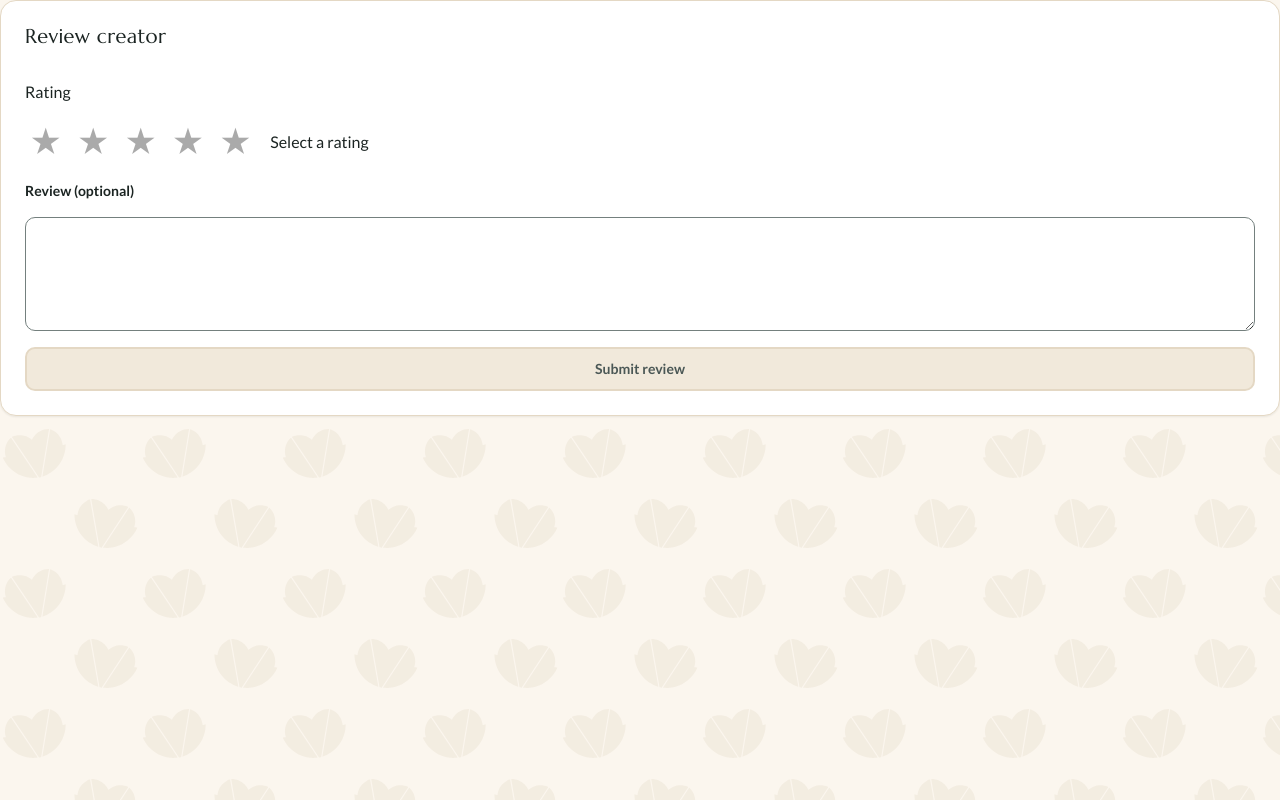
Test case: hides the form when the campaign was already reviewed
Step 1. Click the button named "Rate 5 stars" → (236, 142), box [215,120,256,164]
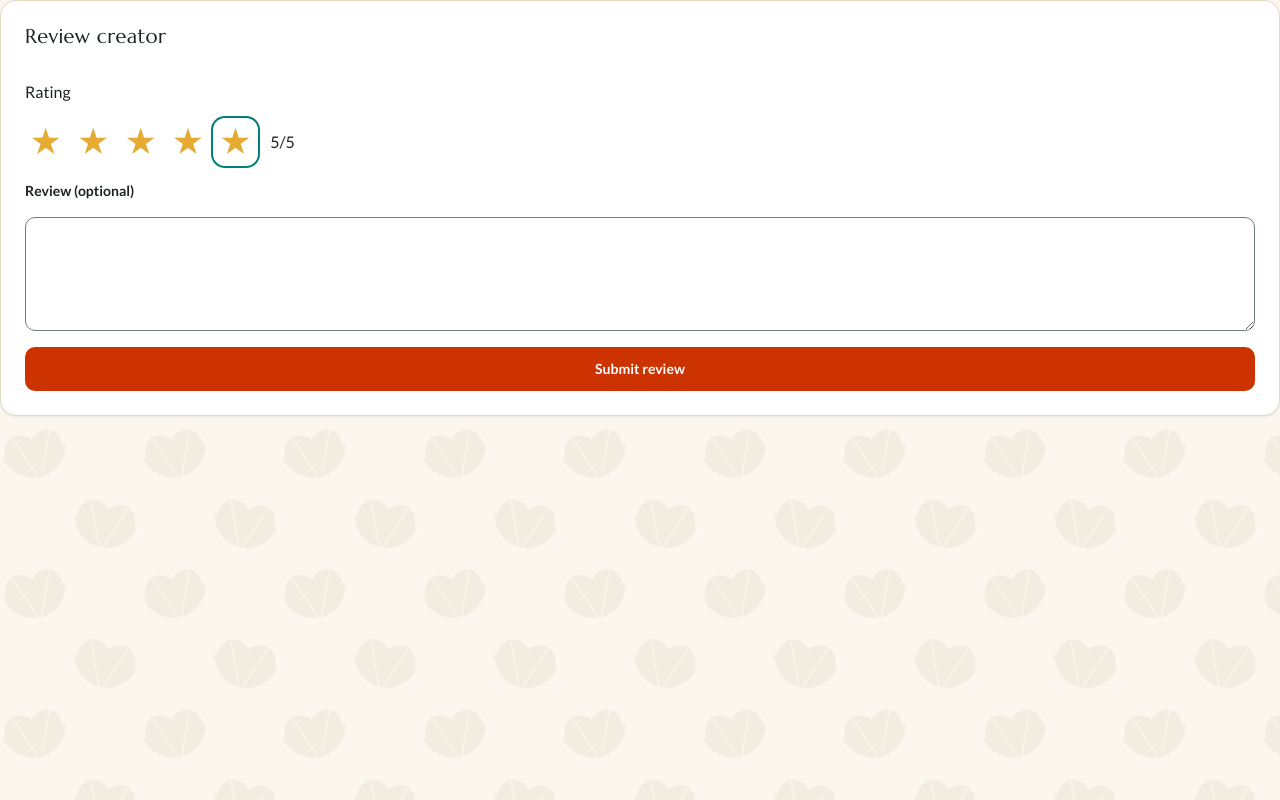
Step 2. Click the button "Submit review" → (640, 369), box [25,347,1255,391]
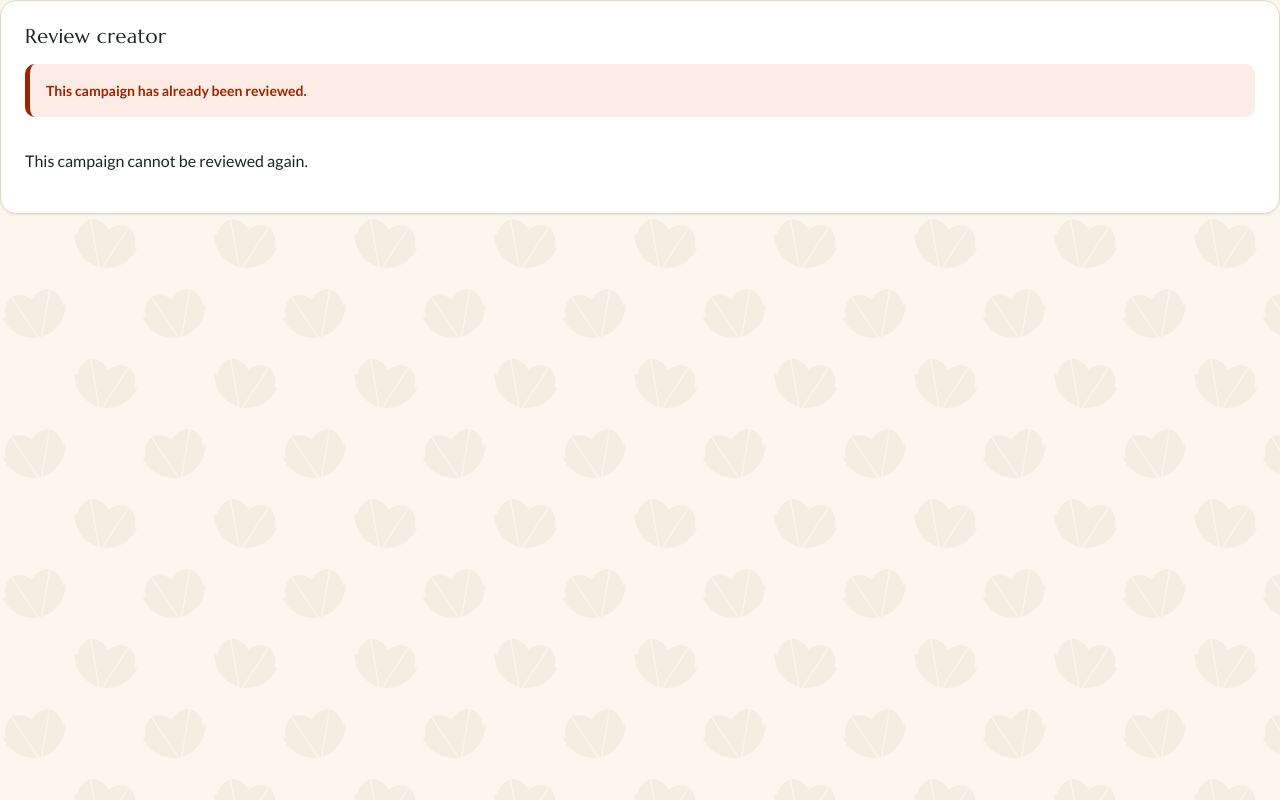
Now the text "This campaign cannot be reviewed again." is shown, box [25,151,308,170]
Now the button "Submit review" is gone
